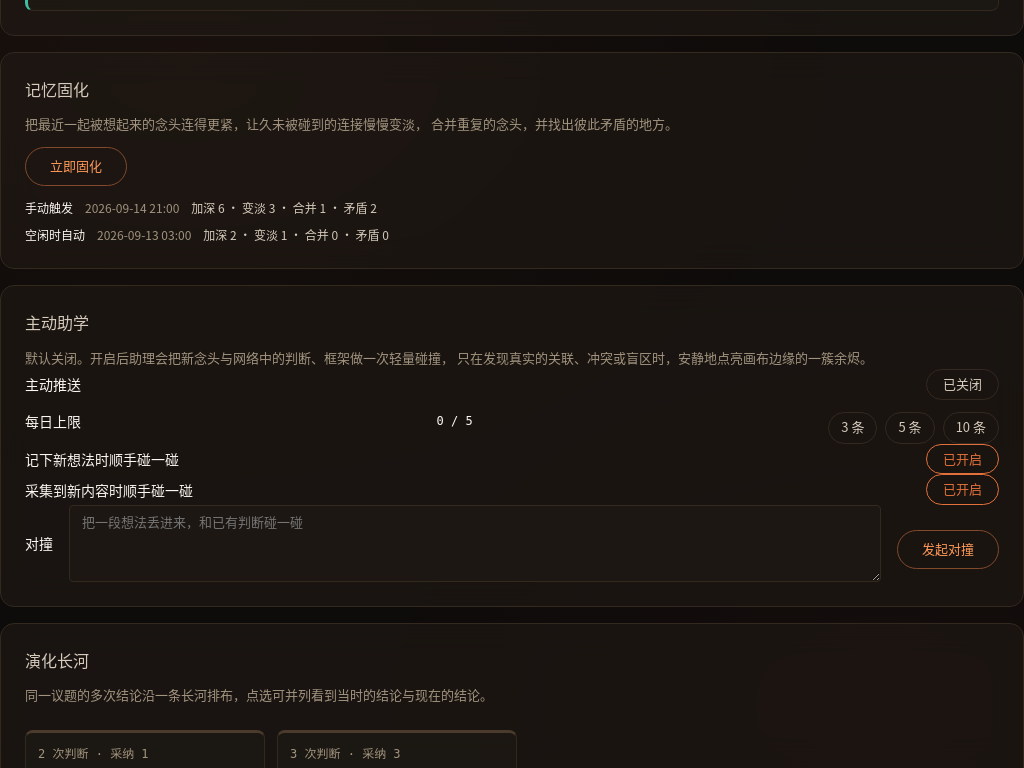
Test: 我境界 · 成长轨迹 › 主动助学默认关闭，可开启并调整每日上限
This screenshot has width=1024, height=768.
(page scrolled)
Click the switch named "主动助学" at [962, 384], box top-left (926, 369), bottom-right (999, 400)
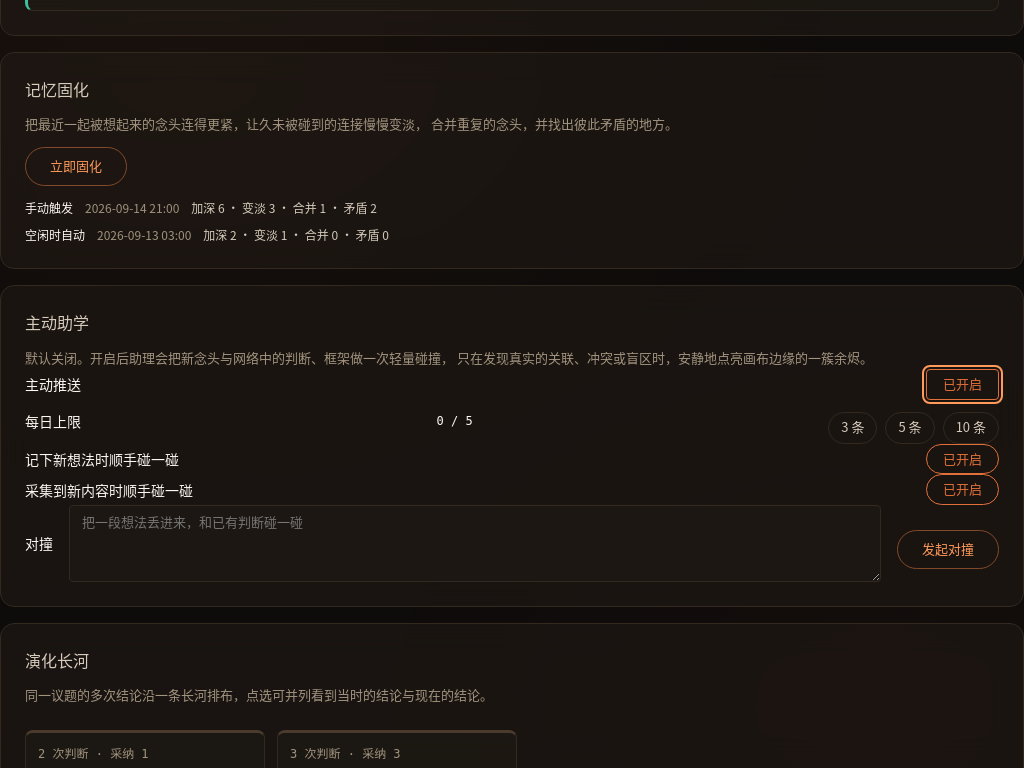
Expected: the switch named "主动助学" is checked, top-left (926, 369), bottom-right (999, 400)
Click the button "10 条" at [971, 428], box top-left (943, 412), bottom-right (999, 444)
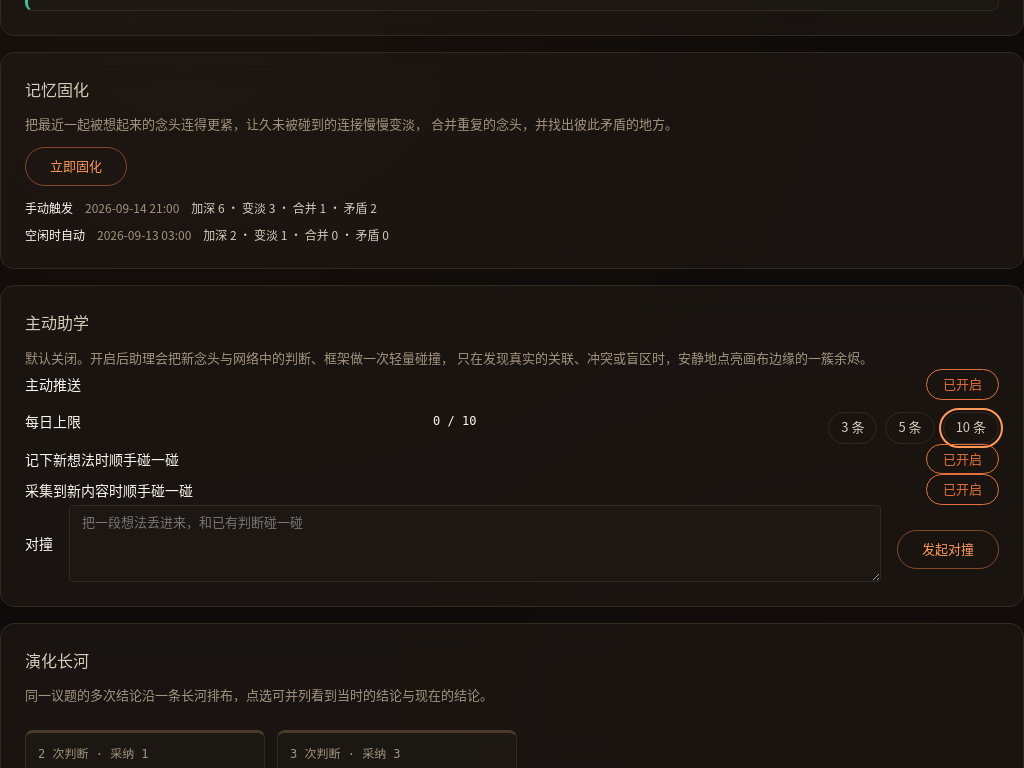
Expected: the text "0 / 10" is shown, top-left (433, 412), bottom-right (476, 431)
